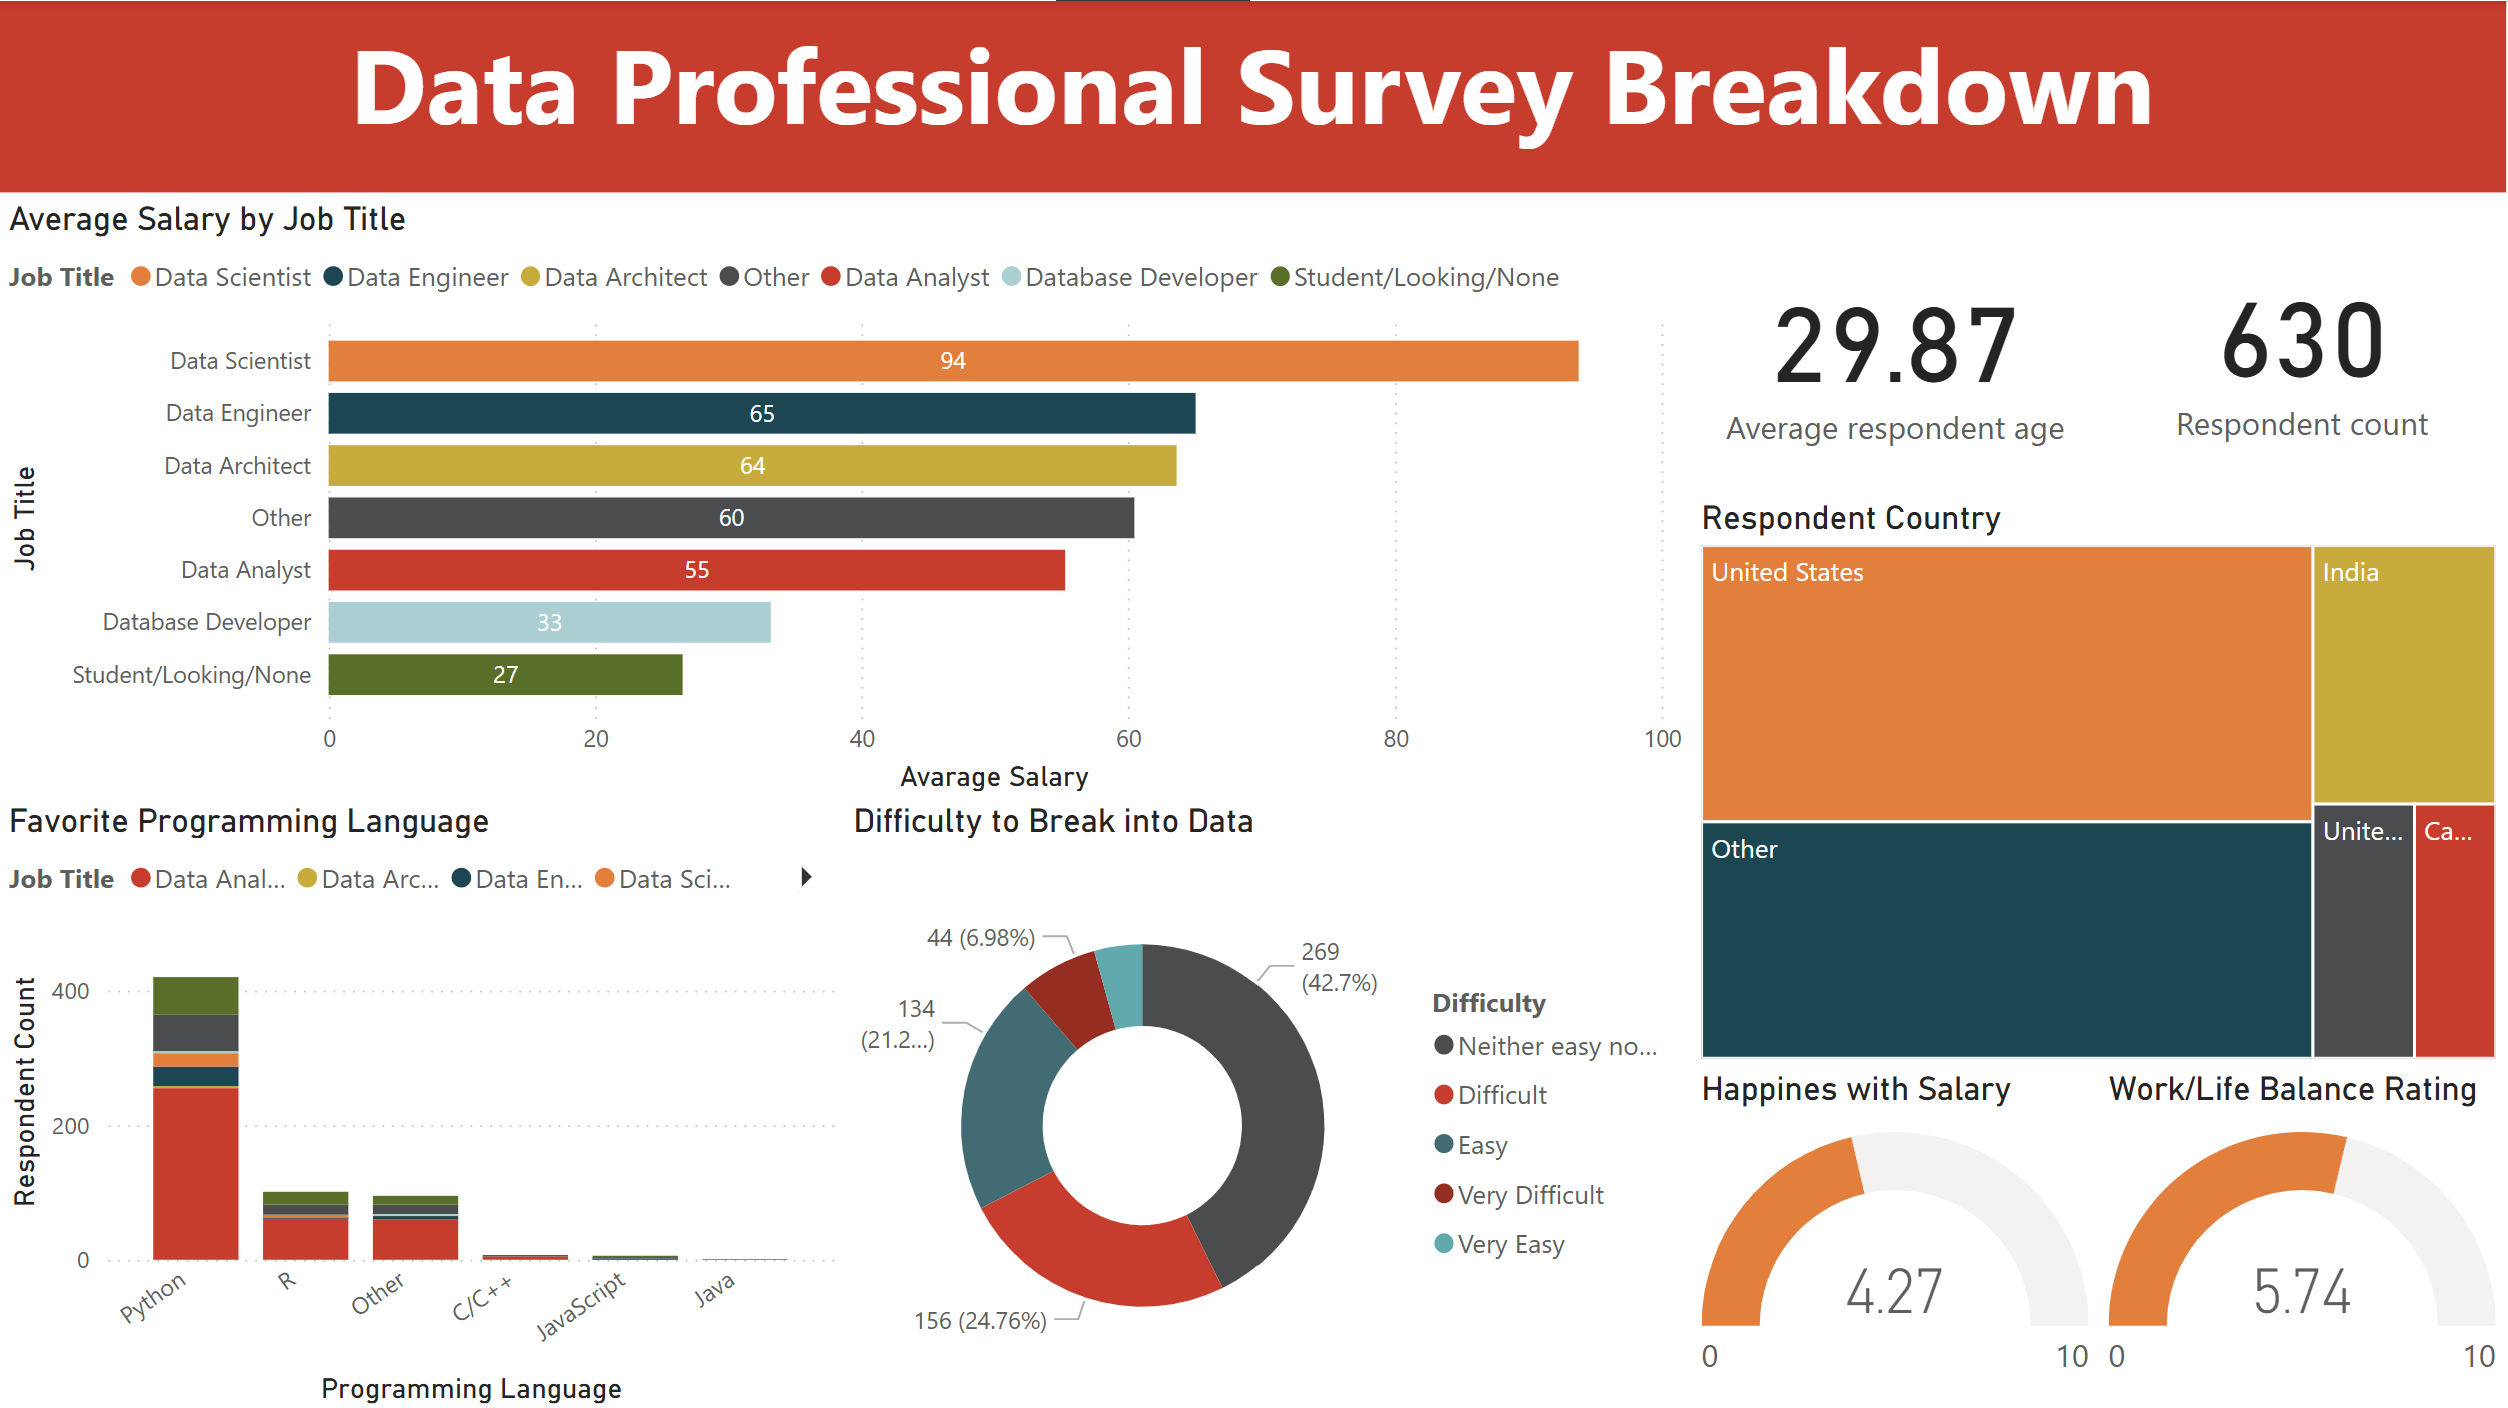

Layout of this report page (visuals, bound fields, positions):
{"tool":"powerbi","page":{"name":"Page 1","canvas":[1280,720],"ordinal":0},"visuals":[{"type":"textbox","box":[0,0,1279.3,97.9],"z":0},{"type":"card","fields":{"Values":["Count(Data Professional Survey.Unique ID)"]},"box":[1071.4,100.9,207.8,151.3],"z":1000},{"type":"card","fields":{"Values":["Avg(Data Professional Survey.Q10 - Current Age)"]},"box":[863.6,102.9,207.8,151.3],"z":2000},{"type":"barChart","title":"Average Salary by Job Title","fields":{"Category":["Data Professional Survey.Q1 - Which Title Best Fits your Current Role?.1"],"Y":["Avg(Data Professional Survey.Avarage Year Salary)"],"Series":["Data Professional Survey.Q1 - Which Title Best Fits your Current Role?.1"]},"box":[0,100.9,863.6,306.7],"z":3000},{"type":"columnChart","title":"Favorite Programming Language","fields":{"Category":["Data Professional Survey.Q5 - Favorite Programming Language.1"],"Y":["Count(Data Professional Survey.Unique ID)"],"Series":["Data Professional Survey.Q1 - Which Title Best Fits your Current Role?.1"]},"box":[0,407.6,431.8,312.8],"z":4000},{"type":"gauge","title":"Happines with Salary","fields":{"Y":["Avg(Data Professional Survey.Q6 - How Happy are you in your Current Position with the following? (Salary))"],"MinValue":["Min(Data Professional Survey.Q6 - How Happy are you in your Current Position with the following? (Salary))1"],"MaxValue":["Max(Data Professional Survey.Q6 - How Happy are you in your Current Position with the following? (Salary))2"]},"box":[863.6,544.8,207.8,175.5],"z":5000},{"type":"treemap","title":"Respondent Country","fields":{"Group":["Data Professional Survey.Q11 - Which Country do you live in?.1"],"Values":["CountNonNull(Data Professional Survey.Q11 - Which Country do you live in?.1)"]},"box":[863.6,254.2,415.7,290.6],"z":6000},{"type":"gauge","title":"Work/Life Balance Rating","fields":{"Y":["Avg(Data Professional Survey.Q6 - How Happy are you in your Current Position with the following? (Work/Life Balance))"],"MinValue":["Min(Data Professional Survey.Q6 - How Happy are you in your Current Position with the following? (Work/Life Balance))"],"MaxValue":["Max(Data Professional Survey.Q6 - How Happy are you in your Current Position with the following? (Work/Life Balance))1"]},"box":[1071.4,544.8,207.8,175.5],"z":7000},{"type":"donutChart","title":"Difficulty to Break into Data","fields":{"Y":["CountNonNull(Data Professional Survey.Q7 - How difficult was it for you to break into Data?)"],"Category":["Data Professional Survey.Q7 - How difficult was it for you to break into Data?"]},"box":[431.8,407.6,431.8,312.8],"z":8000}]}

Visuals, with their boxes in screenshot pixels (x1, y1, x2, y2), scaled from the page's 1280x720 canvas onto the 2508x1408 screenshot:
textbox: [left=0, top=0, right=2507, bottom=191]
card - Count(Data Professional Survey.Unique ID): [left=2099, top=197, right=2506, bottom=493]
card - Avg(Data Professional Survey.Q10 - Current Age): [left=1692, top=201, right=2099, bottom=497]
"Average Salary by Job Title" barChart: [left=0, top=197, right=1692, bottom=797]
"Favorite Programming Language" columnChart: [left=0, top=797, right=846, bottom=1407]
"Happines with Salary" gauge: [left=1692, top=1065, right=2099, bottom=1407]
"Respondent Country" treemap: [left=1692, top=497, right=2507, bottom=1065]
"Work/Life Balance Rating" gauge: [left=2099, top=1065, right=2506, bottom=1407]
"Difficulty to Break into Data" donutChart: [left=846, top=797, right=1692, bottom=1407]
